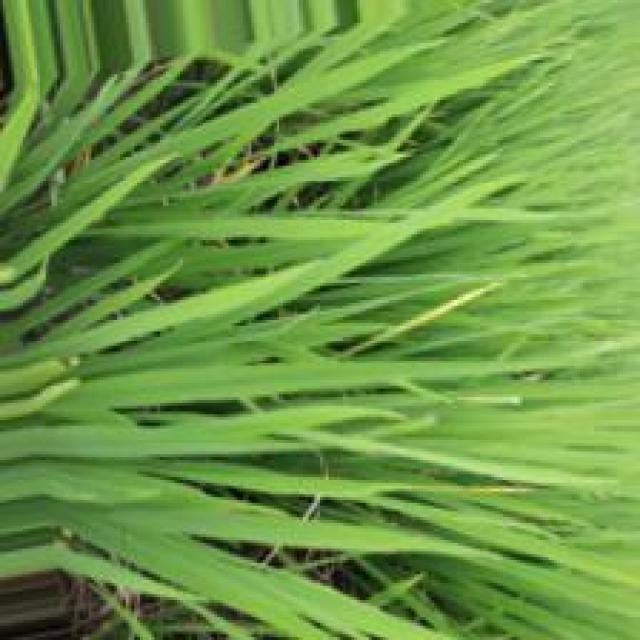HealthyLeaf: (3, 357, 568, 460), (0, 156, 168, 285)
